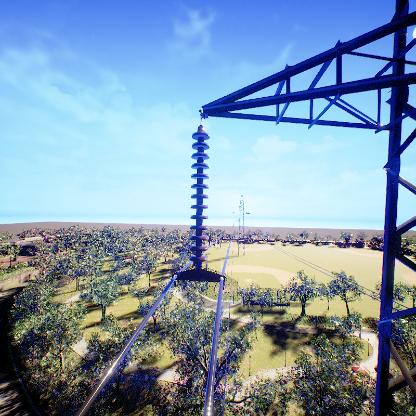insulator: (189, 127, 212, 264)
